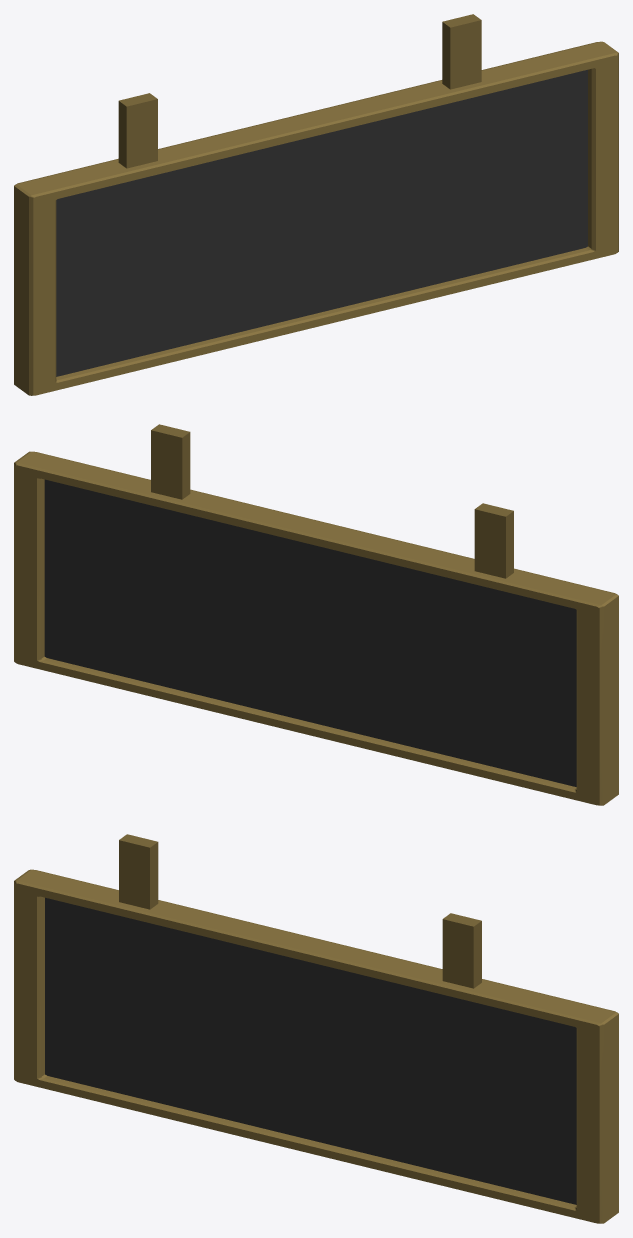
File: SM_SubwayFrame.fbx
3 renders of one model, top to bottom at view 1: azimuth 30°, elevation 25°; view 2: azimuth 150°, elevation 25°; view 3: azimuth 330°, elevation 25°, orthographic.
Parts seen in each view (by area): view 1: pasted__polySurface4817; view 2: pasted__polySurface4817; view 3: pasted__polySurface4817.
Boxes of the visible parts, <box> form: pasted__polySurface4817: <box>14,14,618,395</box>; pasted__polySurface4817: <box>14,424,618,805</box>; pasted__polySurface4817: <box>14,834,618,1223</box>.
Size of the model in its own units: 756 by 321 by 40.97.
